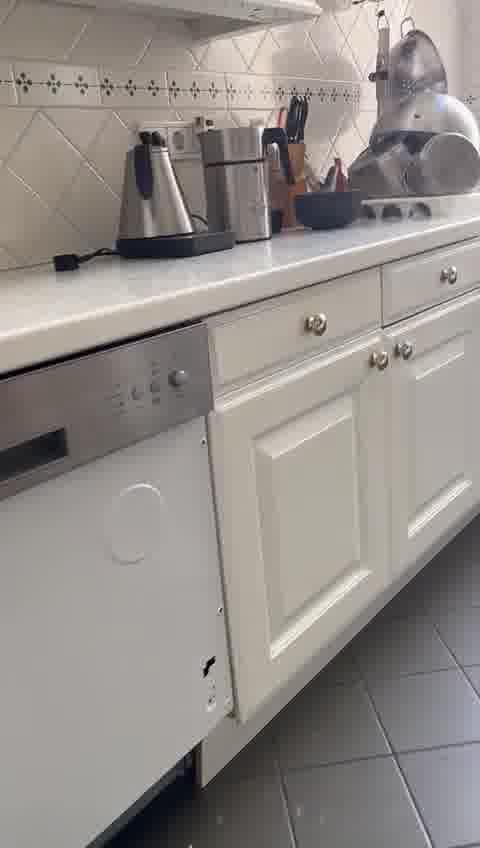cabinet_door: (216, 362, 385, 668), (385, 315, 480, 559), (218, 282, 378, 362), (399, 252, 477, 297)
handle: (391, 335, 420, 369), (300, 312, 330, 342), (368, 345, 388, 379), (440, 263, 461, 291)
